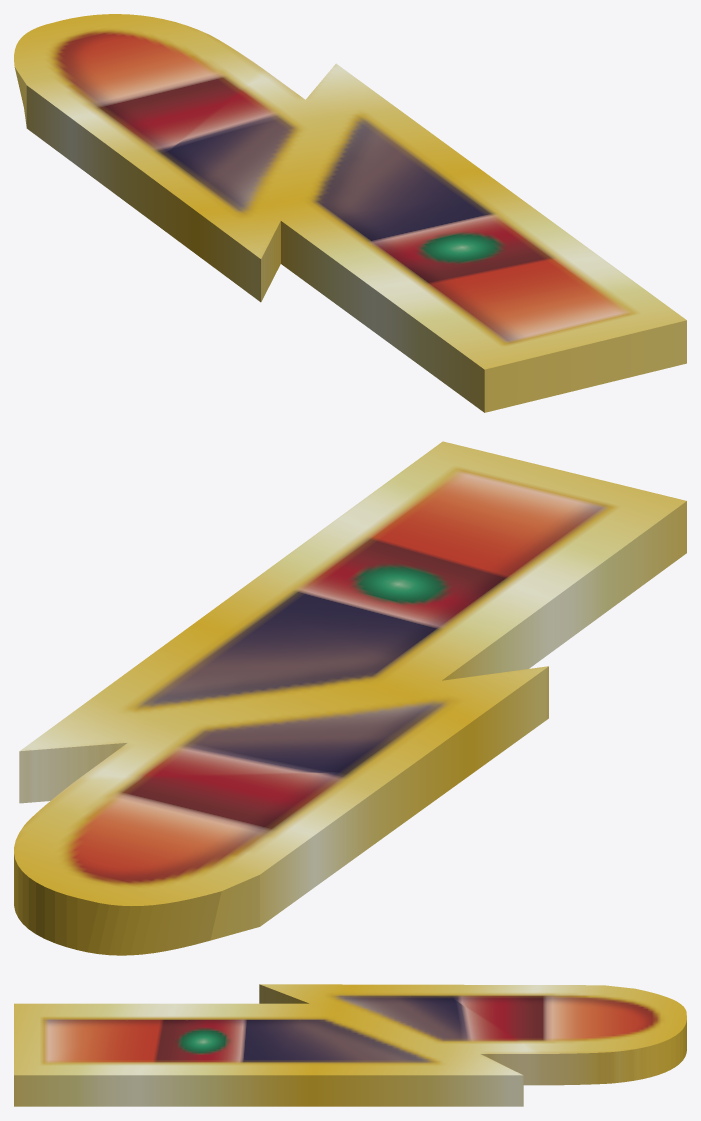
3 views of the same model, one above another, from view 1: azimuth 30°, elevation 25°; view 2: azimuth 150°, elevation 25°; view 3: azimuth 270°, elevation 25° (orthographic). The views are drawn at different scales.
Visible parts, largest first — view 1: path1587; view 2: path1587; view 3: path1587.
Part boxes in pixels (x1,y1,x2,y2): path1587: (14, 14, 686, 412); path1587: (14, 441, 686, 955); path1587: (14, 984, 686, 1106).
Size of the model in its own units: 31.08 by 5 by 97.09.
1 material, 1 textured.
